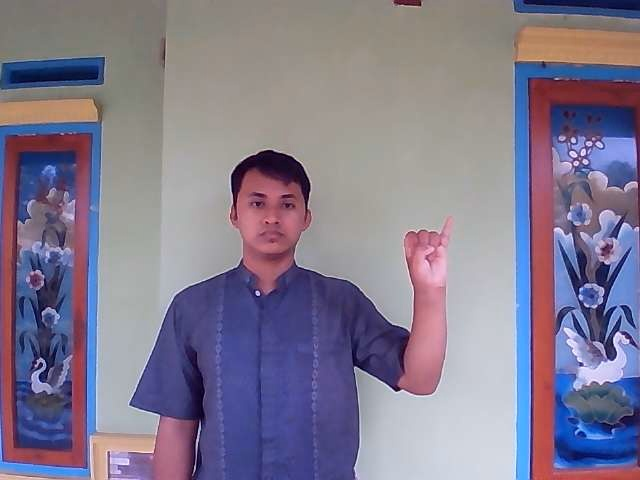I: (399, 212, 457, 306)
